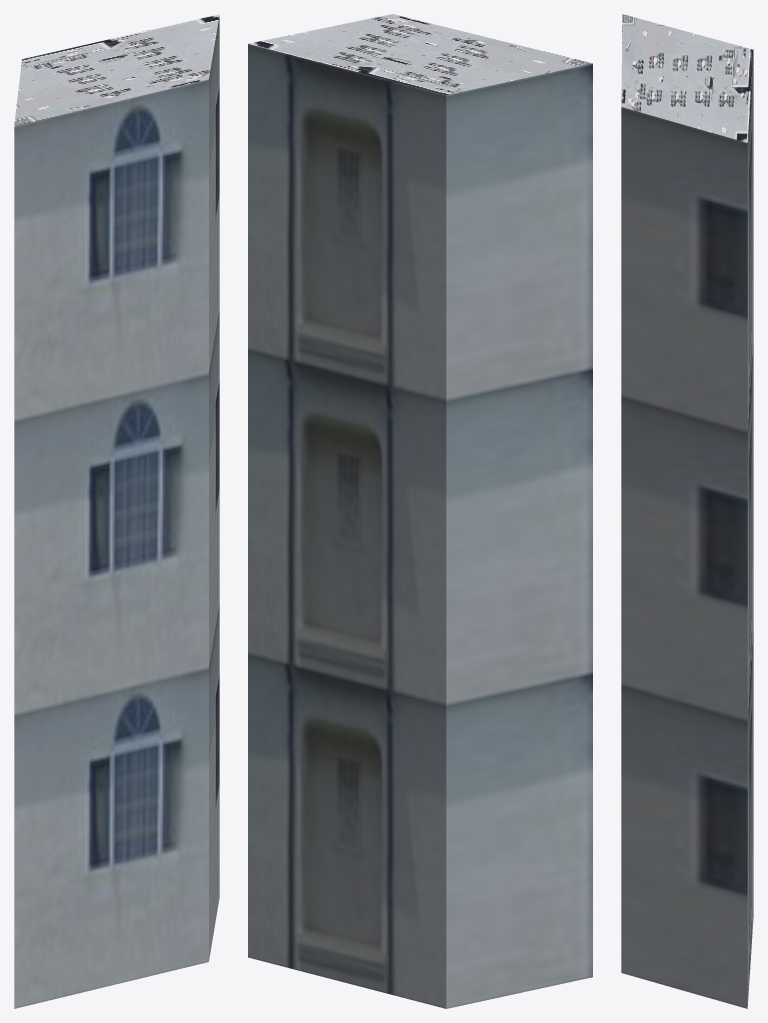
The model's file is ResTex__4655.fbx.
3 views of the same model, side by side, from view 1: azimuth 30°, elevation 25°; view 2: azimuth 150°, elevation 25°; view 3: azimuth 270°, elevation 25° (orthographic). The views are drawn at different scales.
Parts seen in each view (by area): view 1: CityEngineMaterial_17_m, CityEngineMaterial_m; view 2: CityEngineMaterial_17_m, CityEngineMaterial_m; view 3: CityEngineMaterial_17_m, CityEngineMaterial_m.
Boxes of the visible parts, box(x1,y1,x2,y2) form: CityEngineMaterial_17_m: box(14, 16, 219, 1008); CityEngineMaterial_m: box(14, 14, 219, 126); CityEngineMaterial_17_m: box(248, 44, 592, 1008); CityEngineMaterial_m: box(248, 14, 592, 95); CityEngineMaterial_17_m: box(621, 52, 753, 1008); CityEngineMaterial_m: box(621, 14, 753, 142).
Size of the model in its own units: 2.88 by 9 by 1.25.
2 materials, 2 textured.
